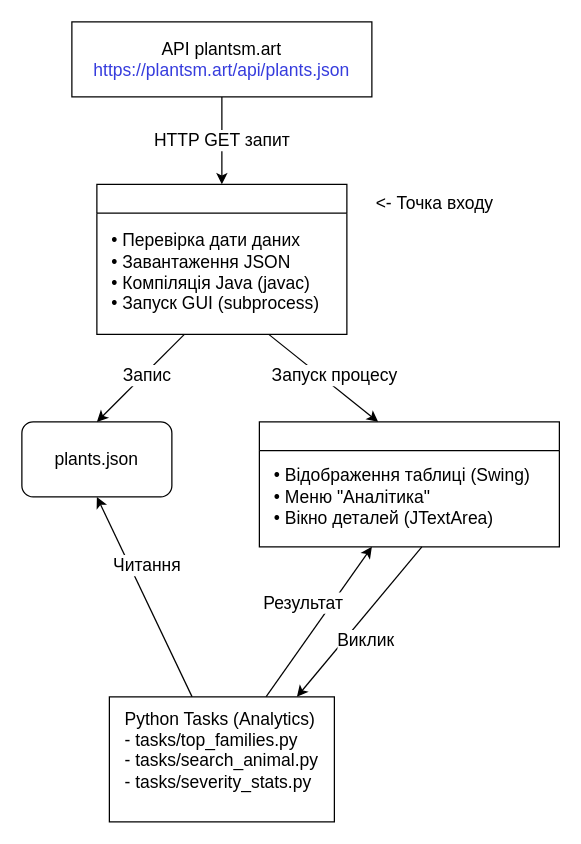
Image size: 581x844. Some labels were removed from this diagram. The box of each missing label's shape, as (x1, y1, x2, y2) in pixels:
Java: PlantGuide.java (GUI): (258, 421, 559, 547)
Python: main_launcher.py: (96, 183, 347, 334)
